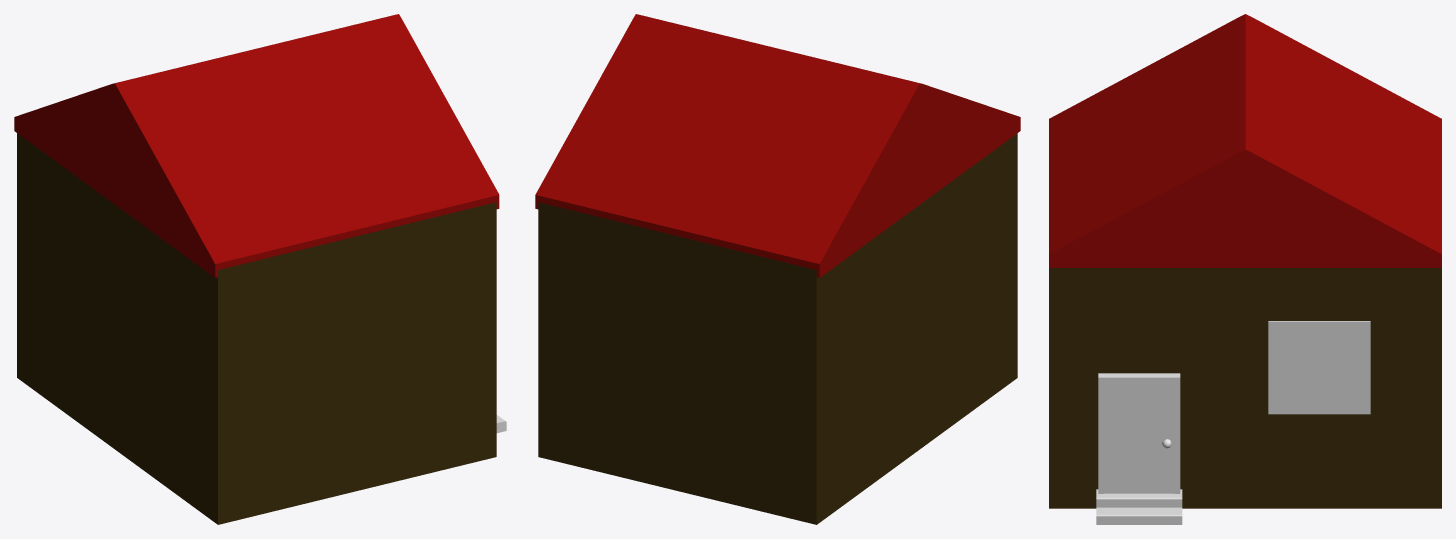
File: Huis4.fbx
The picture shows the model from 3 angles, left to right: view 1: azimuth 30°, elevation 25°; view 2: azimuth 150°, elevation 25°; view 3: azimuth 270°, elevation 25°; orthographic projection. The views are drawn at different scales.
Visible parts, largest first — view 1: Cube, Cube.001; view 2: Cube, Cube.001; view 3: Cube.001, Cube, Plane.001, Cube.006, Cube.005, Cube.004.
Part boxes in pixels (bbox=[...]): Cube: bbox=[17, 133, 496, 524]; Cube.001: bbox=[14, 14, 499, 277]; Cube: bbox=[538, 133, 1017, 524]; Cube.001: bbox=[535, 14, 1020, 277]; Cube.001: bbox=[1049, 14, 1441, 267]; Cube: bbox=[1049, 268, 1441, 508]; Plane.001: bbox=[1268, 321, 1370, 414]; Cube.006: bbox=[1103, 382, 1174, 493]; Cube.005: bbox=[1096, 489, 1182, 524]; Cube.004: bbox=[1098, 373, 1180, 493].
Bounding box in the file's own units: 181 × 202 × 200.
